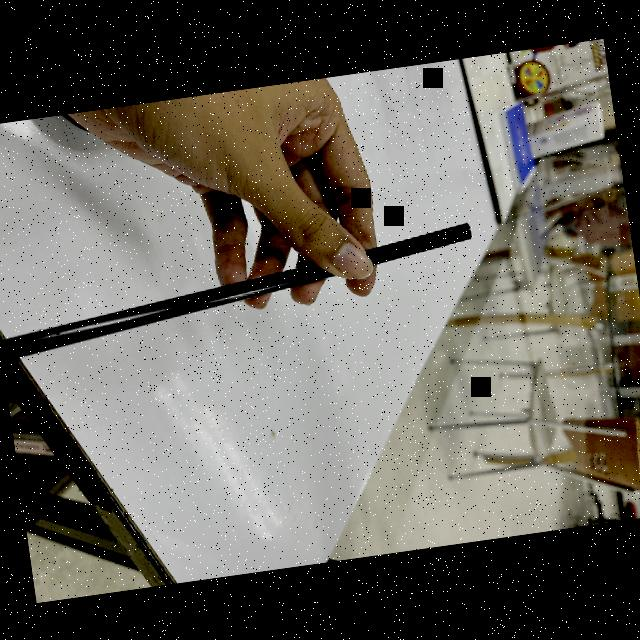straw: (0, 220, 482, 366)
